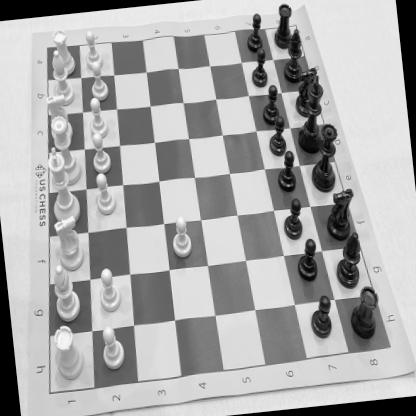bishop: (47, 261, 82, 324), (332, 228, 364, 290), (46, 44, 76, 106), (279, 26, 306, 84)
king: (42, 143, 82, 227), (291, 74, 330, 156)
knight: (48, 212, 86, 272), (323, 184, 357, 239), (291, 66, 323, 118), (43, 91, 74, 144)
pawn: (306, 294, 336, 342), (97, 322, 127, 370), (94, 264, 122, 314), (90, 170, 118, 218), (168, 211, 194, 261), (293, 236, 320, 284), (260, 113, 288, 158), (279, 197, 305, 242), (84, 95, 110, 140), (86, 131, 112, 176), (86, 58, 111, 104), (273, 149, 298, 193), (258, 83, 282, 127), (80, 28, 105, 70), (245, 47, 269, 90), (242, 10, 264, 54)
queen: (305, 120, 343, 192), (48, 113, 84, 189)
rook: (50, 322, 88, 384), (345, 283, 384, 342), (48, 27, 76, 78), (270, 1, 297, 51)
